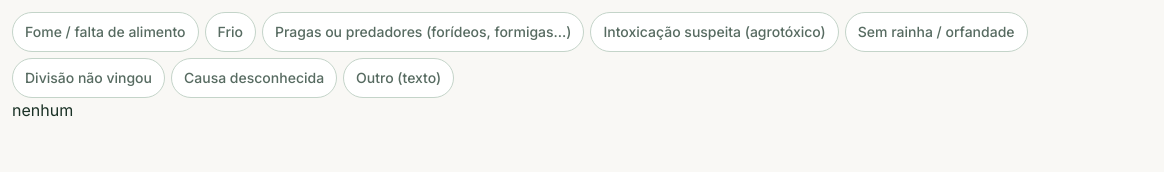
Test: SeletorMotivo › nada marcado por padrão; um toque marca, outro toque desmarca
Expected: the element named "Motivo" is shown, [12,12,1163,98]
Expected: the text "nenhum" is shown, [12,100,73,120]
Click the button "Fome / falta de alimento". click: (105, 32)
box: [12,12,199,52]
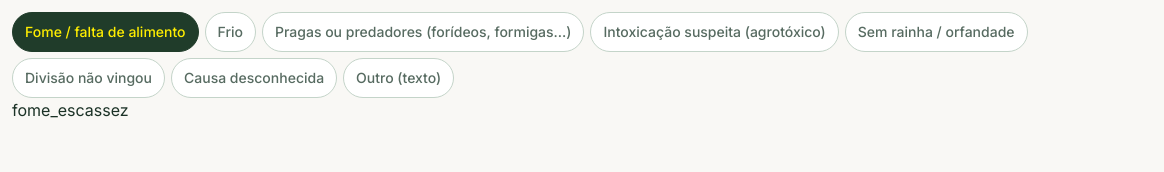
Expected: the text "fome_escassez" is shown, [12,100,129,120]
Click the button "Frio". click: (230, 32)
box: [205,12,256,52]
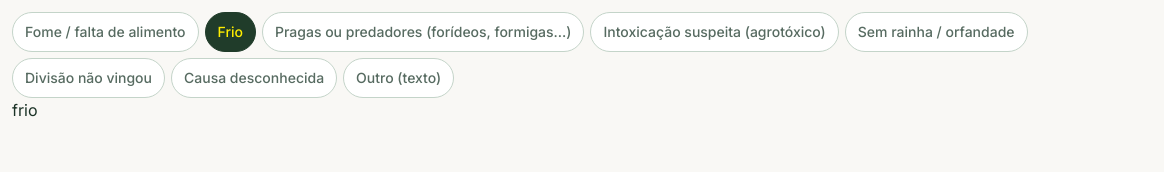
Expected: the text "frio" is shown, [12,100,38,120]
Click the button "Frio". click: (230, 32)
box: [205,12,256,52]
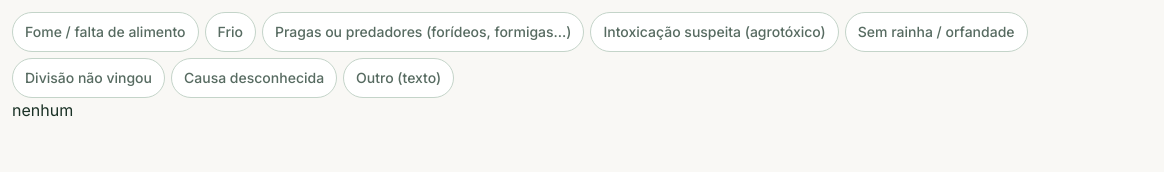
Expected: the text "nenhum" is shown, [12,100,73,120]
